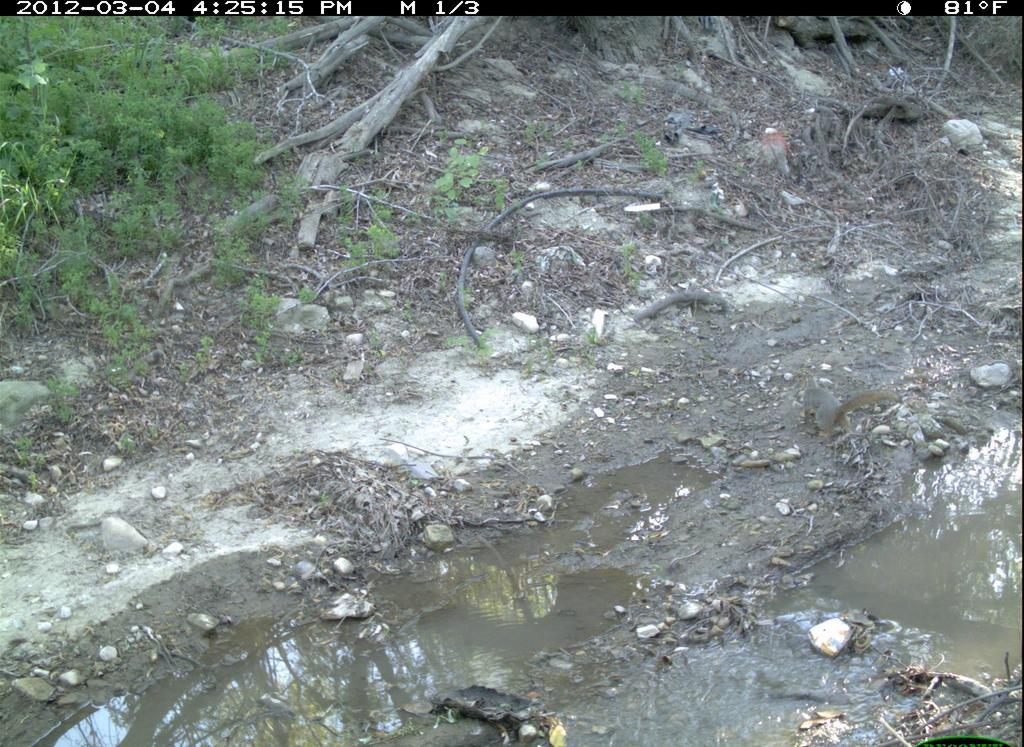squirrel: (795, 367, 908, 445)
